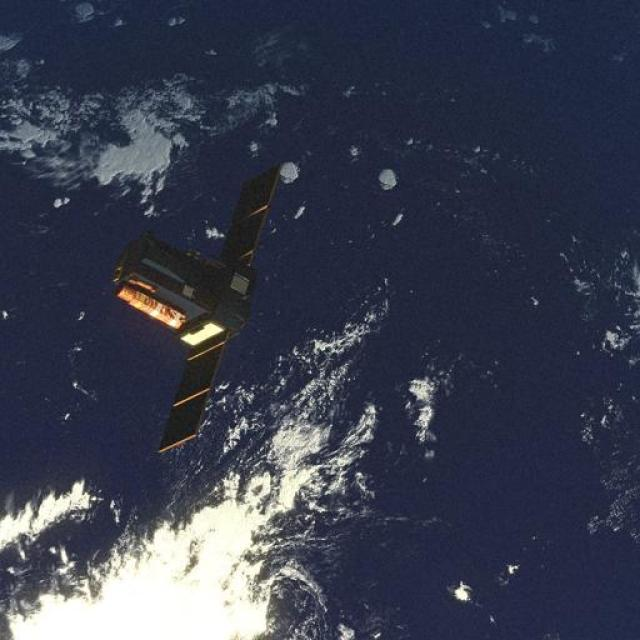soho: (112, 152, 298, 446)
